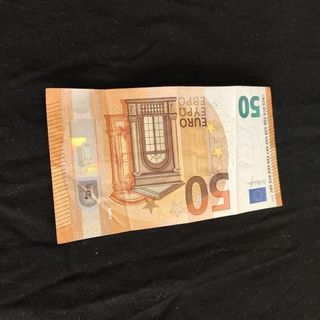50EUROFront: (44, 85, 283, 246)
